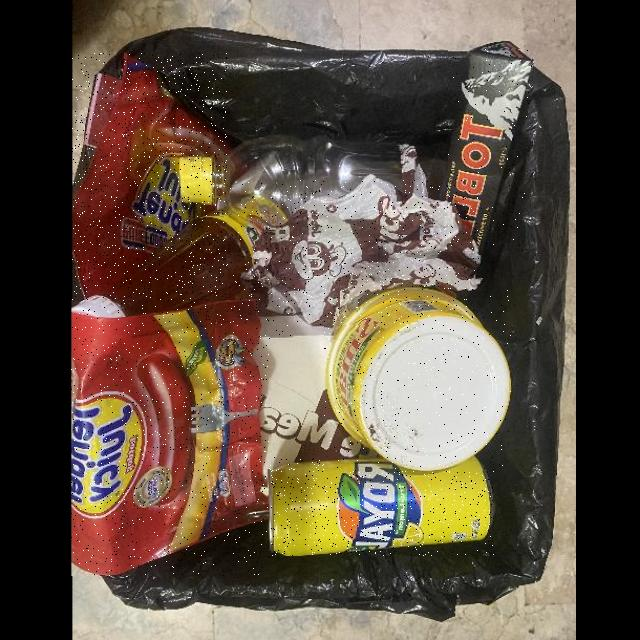glass: (73, 186, 293, 341)
metal: (270, 457, 494, 556)
paper: (449, 49, 532, 254)
plastic: (325, 289, 511, 470)
wrapper: (72, 300, 270, 576), (73, 53, 227, 300), (242, 180, 479, 324)
